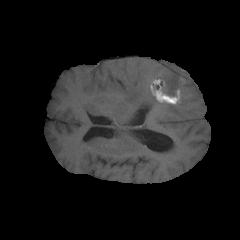glioma: (83, 62, 198, 113)
